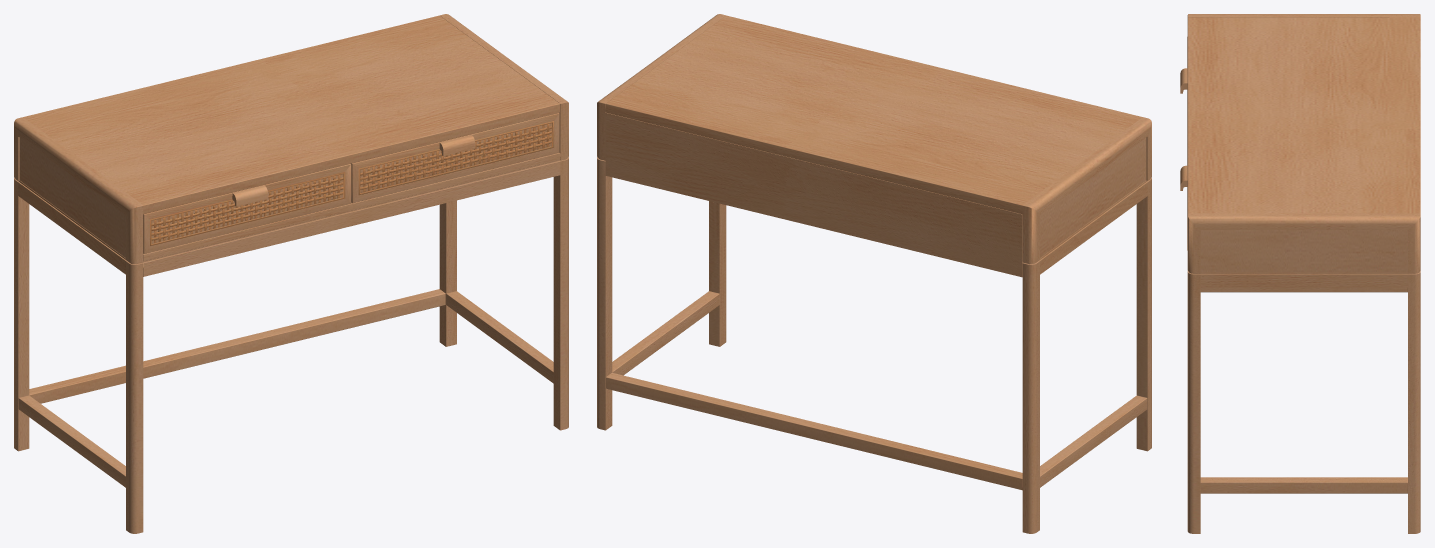
Rendered from desk.glb.
3 views of the same model, side by side, from view 1: azimuth 30°, elevation 25°; view 2: azimuth 150°, elevation 25°; view 3: azimuth 270°, elevation 25° (orthographic). The views are drawn at different scales.
Visible parts, largest first — view 1: geo_opq_86806504_mid; view 2: geo_opq_86806504_mid; view 3: geo_opq_86806504_mid.
Boxes of the visible parts, left/top/right/bottom form: geo_opq_86806504_mid: left=14, top=14, right=568, bottom=533; geo_opq_86806504_mid: left=597, top=14, right=1151, bottom=533; geo_opq_86806504_mid: left=1180, top=14, right=1420, bottom=533.
Size of the model in its own units: 1.07 by 0.7627 by 0.5253.
Materials: 1 (1 with a texture image).
